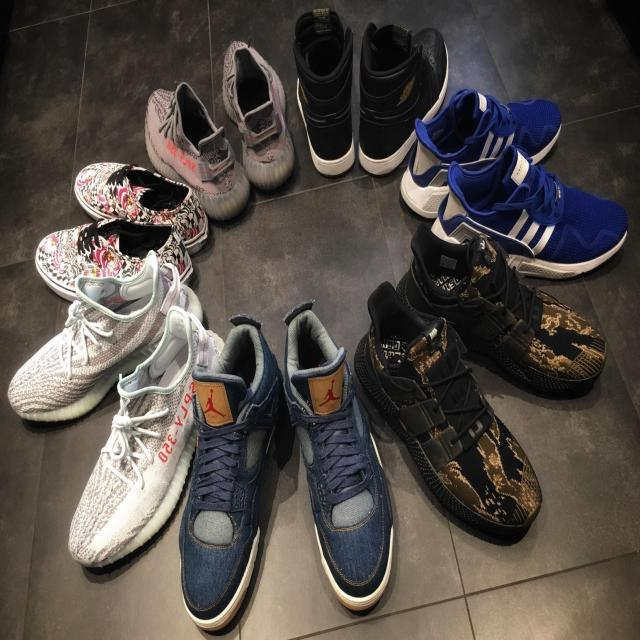shoe: (353, 282, 546, 549), (64, 304, 222, 574), (395, 220, 609, 400), (278, 300, 398, 616), (176, 308, 286, 633), (8, 249, 205, 421), (429, 148, 636, 284), (398, 89, 564, 216), (144, 78, 253, 226), (358, 18, 451, 178), (38, 221, 193, 305), (72, 162, 207, 256), (291, 7, 358, 181), (220, 39, 294, 193)
